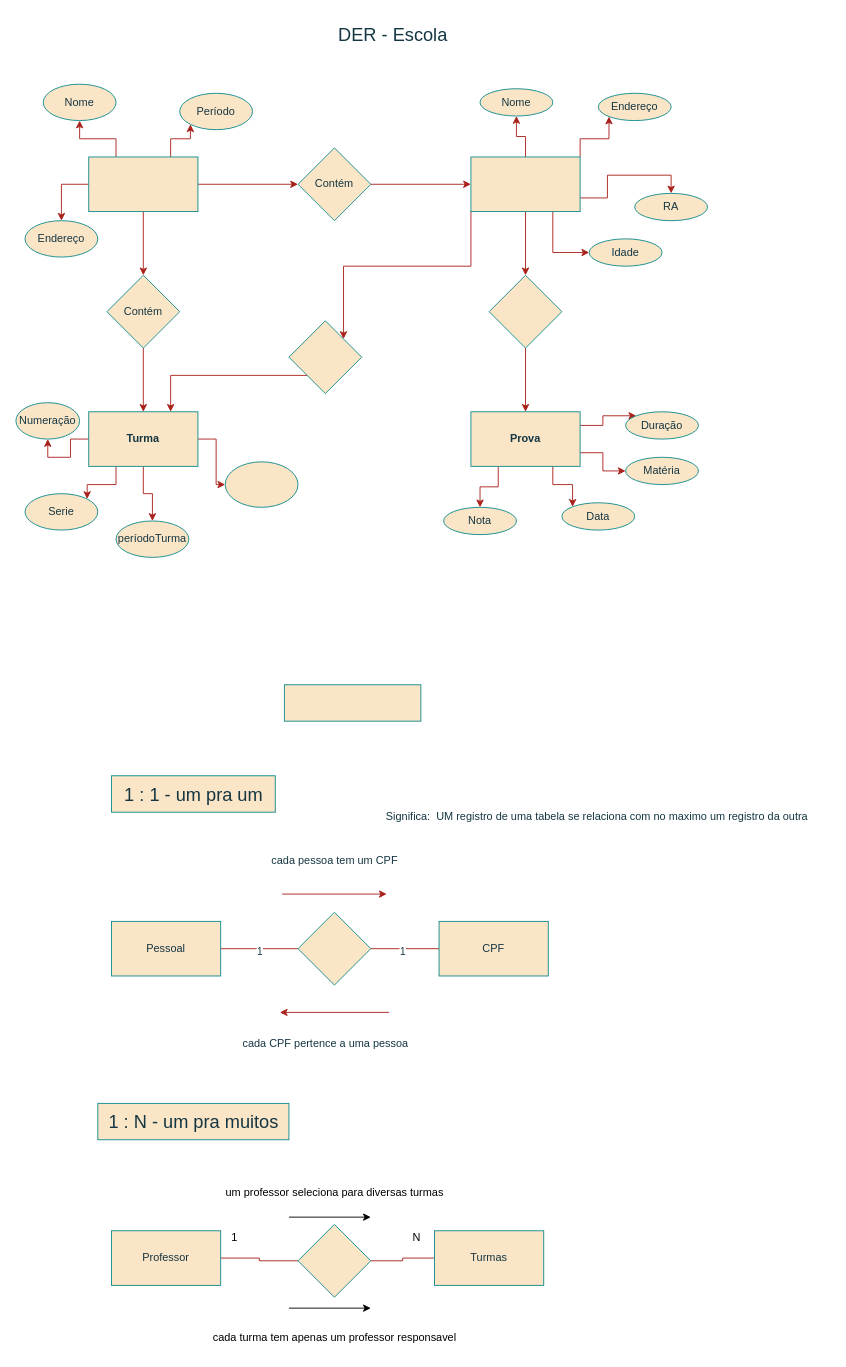
The diagram is 846 pixels wide and 1367 high, and some of its shapes have lost their labels. Here are the shapes that lost their labels. From the top down, the centre of each, then its label:
[143,184]: Escola
[525,184]: Aluno
[525,311]: Realiza
[325,357]: Estuda
[261,484]: NomeTurma
[352,702]: Cardinalidade
[334,948]: Tem
[334,1260]: selecione
